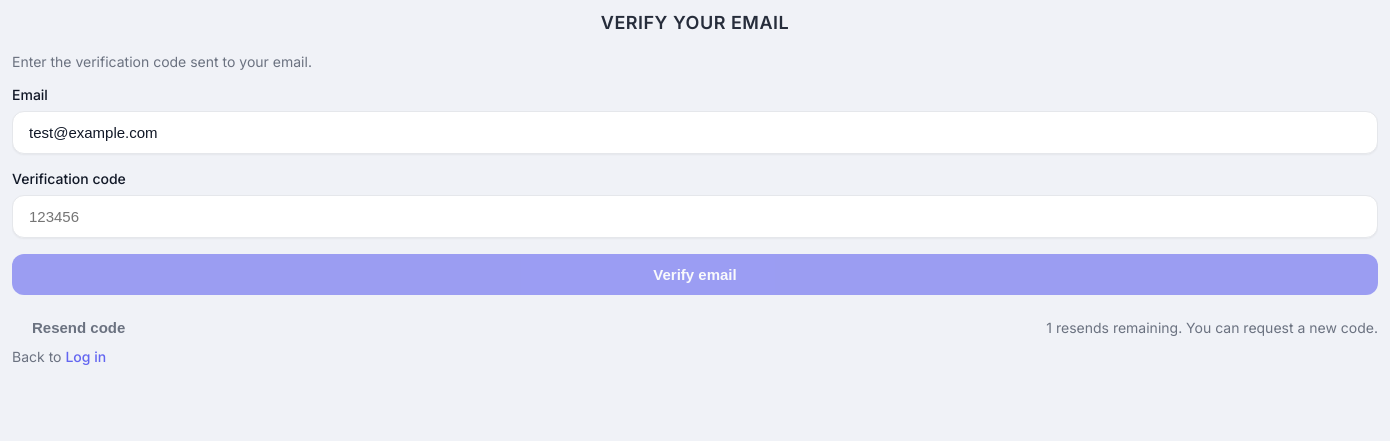
Test: VerifyEmail – resend limit › should respect a custom maxResends prop of 1
Click the button "Resend code".
click(79, 328)  # box [12,307,145,348]
Wait 120000 ms
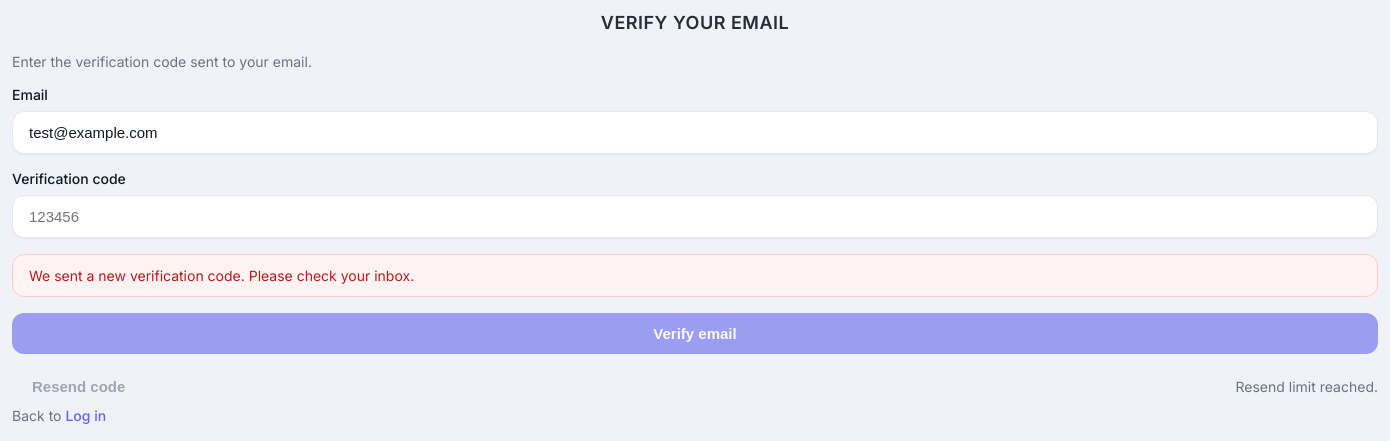
Now the button "Resend code" is disabled, box [12,366,145,407]
Now the text "Resend limit reached." is shown, box [1236,378,1378,395]
